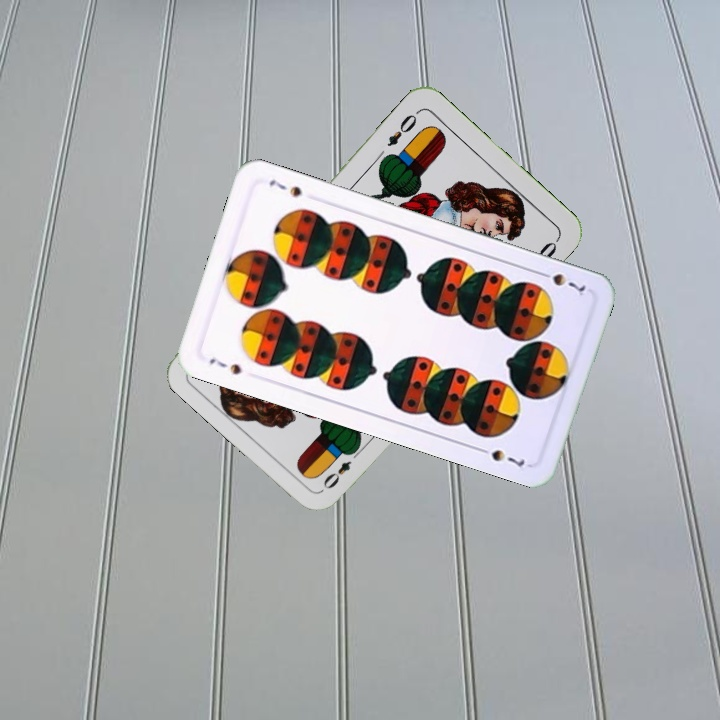EO: (318, 445, 365, 492), (383, 106, 422, 150)
S7: (534, 267, 589, 299), (205, 354, 244, 378)
